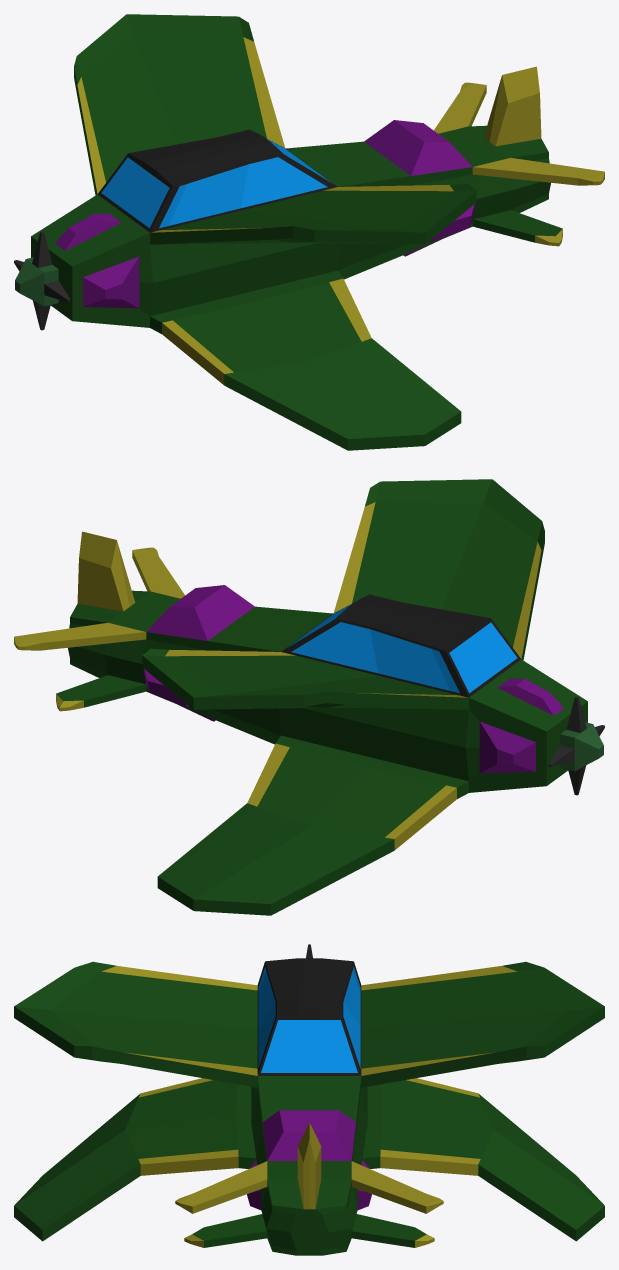
The model's file is ModelTwo.fbx.
The picture shows the model from 3 angles, top to bottom: view 1: azimuth 30°, elevation 25°; view 2: azimuth 150°, elevation 25°; view 3: azimuth 270°, elevation 25°; orthographic projection.
Parts seen in each view (by area): view 1: Cube, Cube.001; view 2: Cube, Cube.001; view 3: Cube.
Part boxes in pixels (bbox=[...]): Cube: bbox=[31, 14, 604, 450]; Cube.001: bbox=[14, 231, 70, 330]; Cube: bbox=[14, 479, 587, 915]; Cube.001: bbox=[548, 696, 604, 795]; Cube: bbox=[14, 958, 604, 1255].
Size of the model in its own units: 1162 by 448 by 1139.
